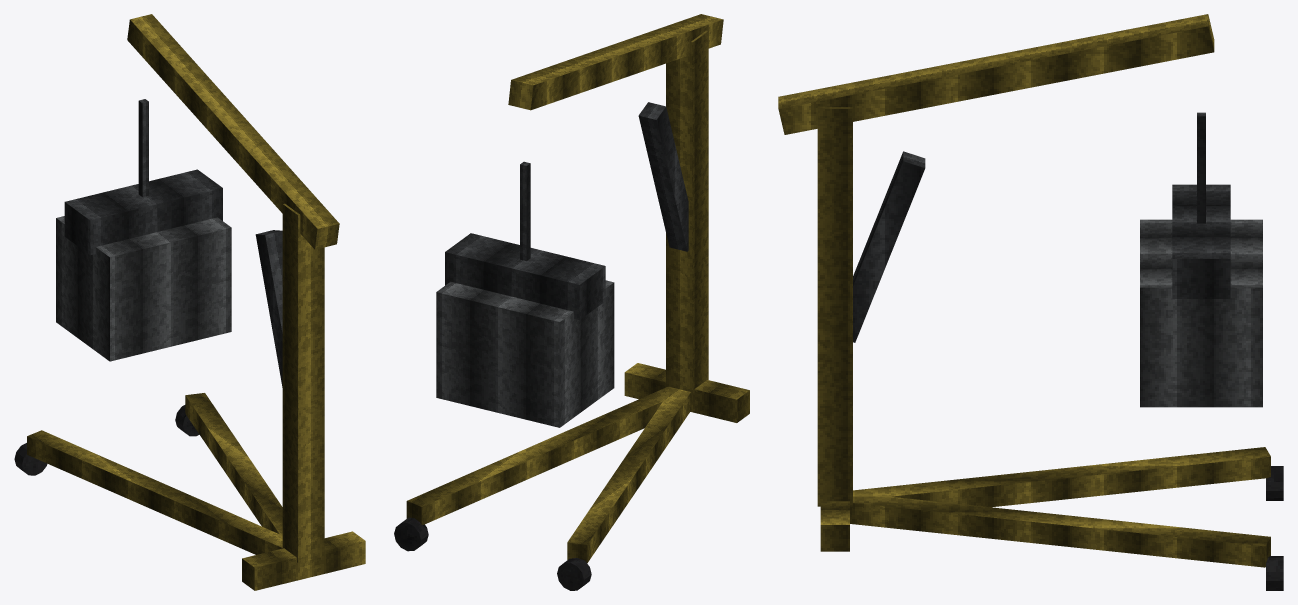
Rendered from engine_hoist.glb.
3 views of the same model, side by side, from view 1: azimuth 30°, elevation 25°; view 2: azimuth 150°, elevation 25°; view 3: azimuth 270°, elevation 25° (orthographic). The views are drawn at different scales.
Visible parts, largest first — view 1: engine_hoist; view 2: engine_hoist; view 3: engine_hoist.
Boxes of the visible parts, <box> form: engine_hoist: <box>14,14,365,590</box>; engine_hoist: <box>394,14,749,590</box>; engine_hoist: <box>778,14,1283,590</box>.
Bounding box in the file's own units: 0.8458 × 1.97 × 1.72.
Materials: 4 (4 with a texture image).
